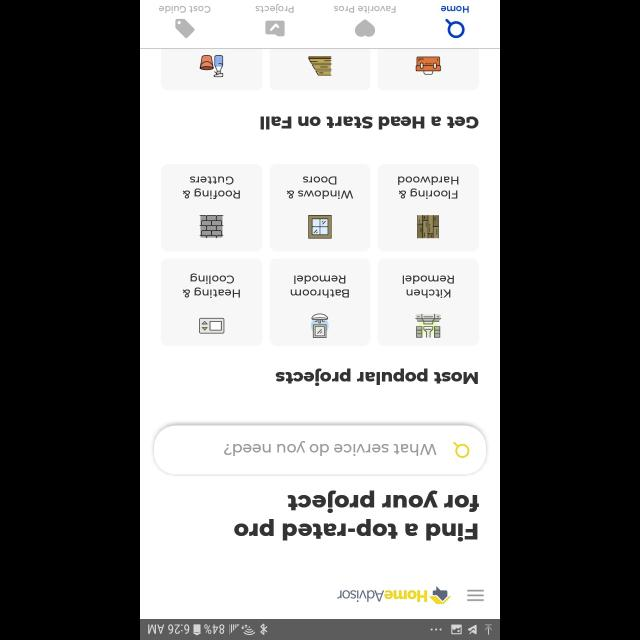icon: (175, 18, 195, 38), (444, 18, 464, 38), (355, 19, 375, 37), (265, 20, 285, 36), (453, 442, 469, 458), (466, 588, 484, 602)
image: (414, 314, 442, 338), (199, 54, 223, 78), (308, 215, 332, 239), (199, 214, 223, 238), (417, 215, 439, 239), (415, 56, 441, 76), (308, 56, 332, 76), (311, 314, 329, 338), (199, 318, 225, 334), (429, 586, 451, 604)
input: (154, 425, 486, 475)
text: (234, 490, 478, 540), (274, 368, 478, 386), (224, 440, 436, 456), (260, 116, 478, 130), (286, 177, 354, 200), (182, 274, 240, 298), (398, 177, 458, 200), (182, 177, 240, 200), (290, 276, 350, 298), (402, 276, 454, 298), (337, 589, 427, 601), (334, 6, 396, 14), (158, 6, 210, 14), (254, 3, 294, 13), (441, 6, 469, 12)
uppertaskbar: (140, 618, 500, 640)
